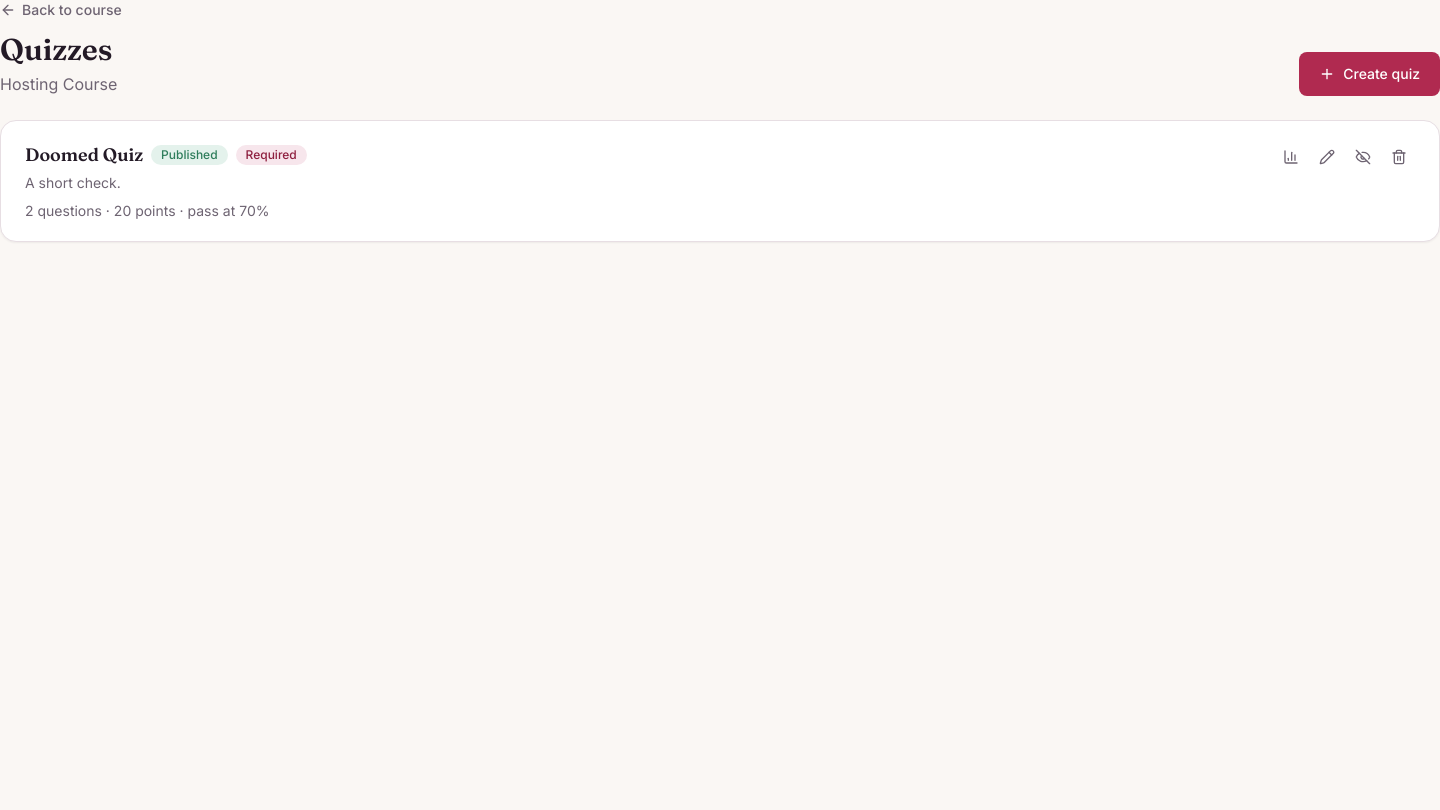
Scenario: QuizManagementPage › deletes a quiz after confirmation
Step 1. Click the button named "Delete Doomed Quiz" → (1399, 157), box [1383,141,1415,173]
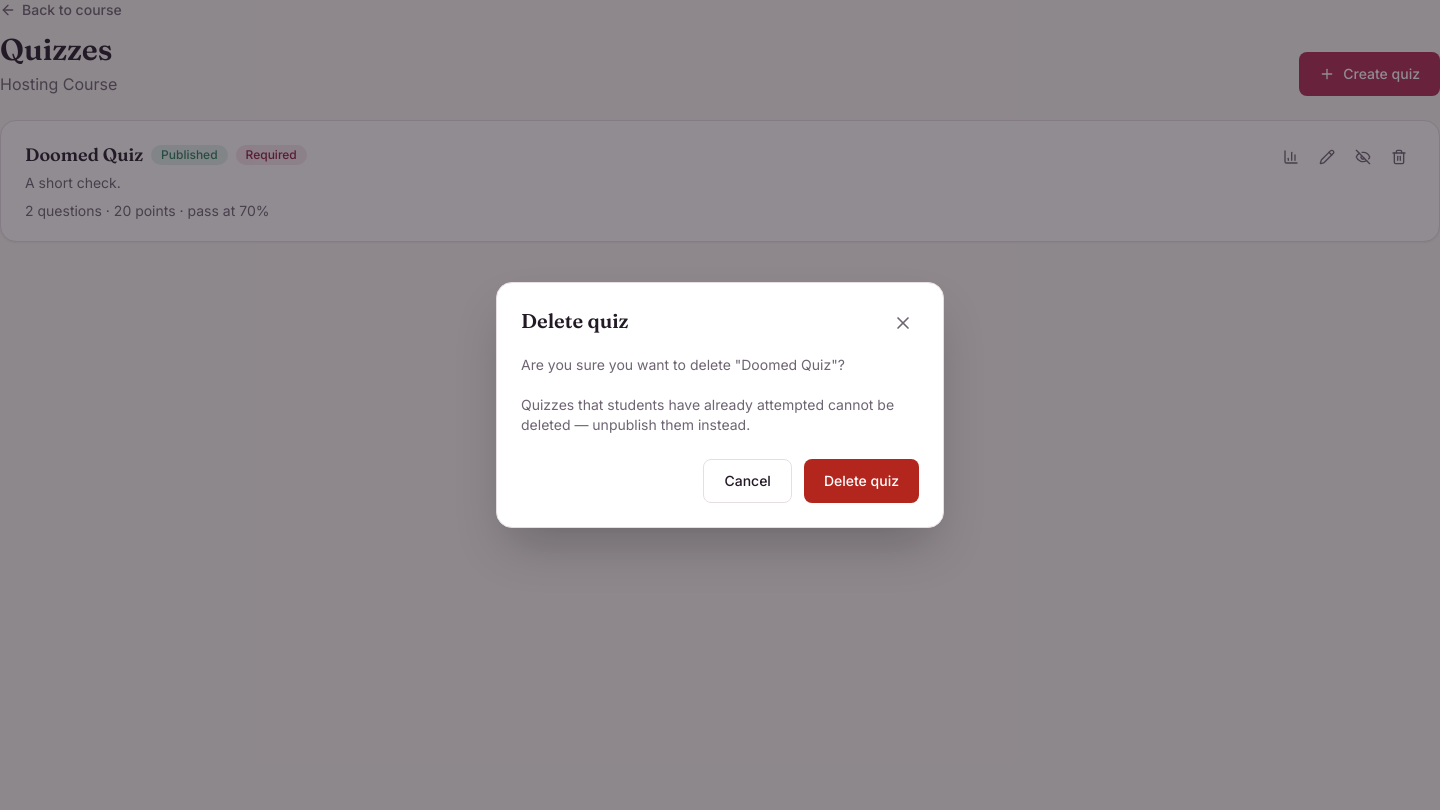
Step 2. Click the button "Delete quiz" → (861, 481), box [804,459,919,503]
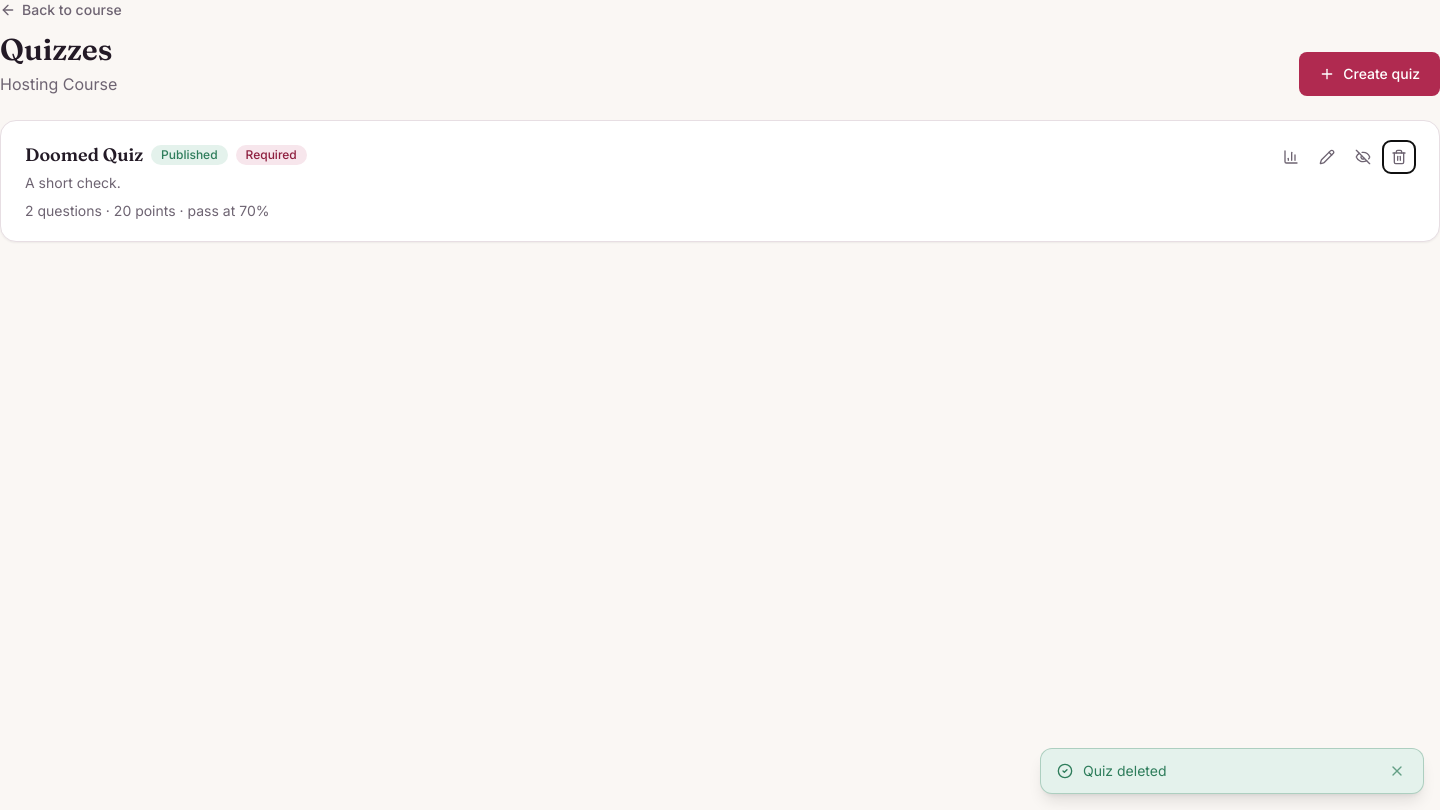
Check: the text "Quiz deleted" is shown, box [1083,762,1166,779]
